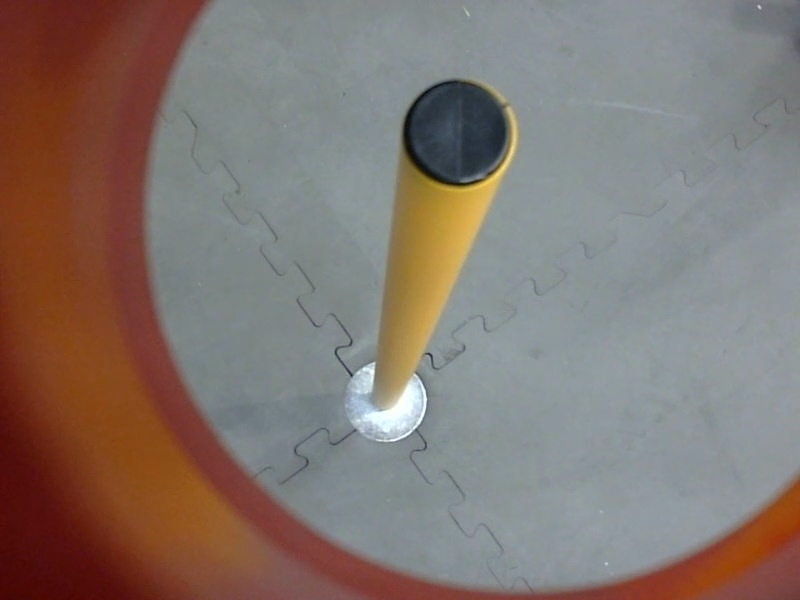tip: (393, 67, 525, 196)
